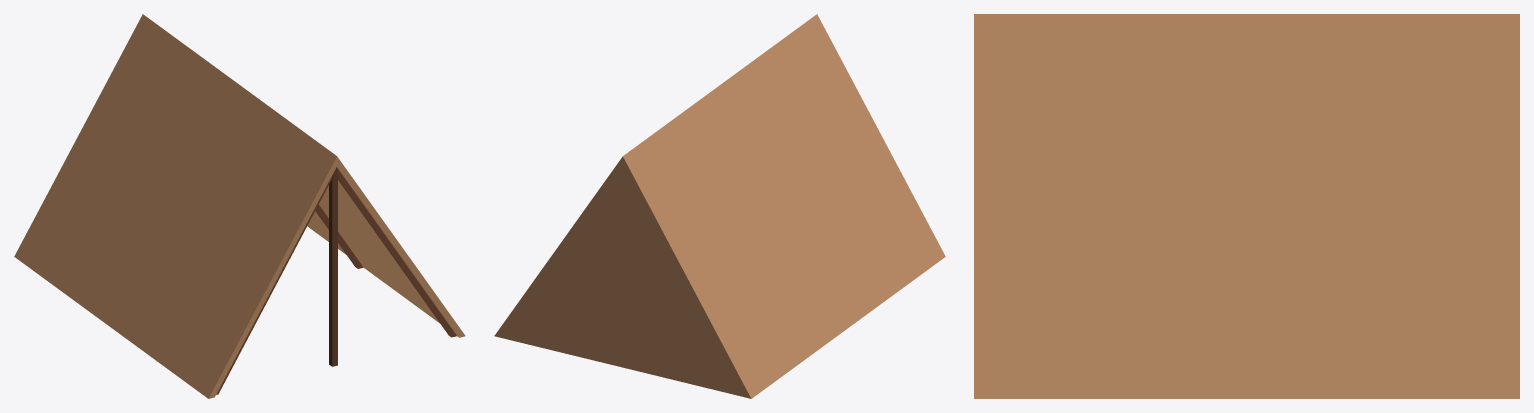
File: Tent_01.fbx
The picture shows the model from 3 angles, left to right: view 1: azimuth 30°, elevation 25°; view 2: azimuth 150°, elevation 25°; view 3: azimuth 270°, elevation 25°; orthographic projection. The views are drawn at different scales.
Visible parts, largest first — view 1: Tent_01; view 2: Tent_01; view 3: Tent_01.
Part boxes in pixels (left/top/right/bottom): Tent_01: left=14, top=14, right=465, bottom=398; Tent_01: left=494, top=14, right=945, bottom=398; Tent_01: left=974, top=14, right=1519, bottom=398.
Size of the model in its own units: 135 by 106 by 176.
